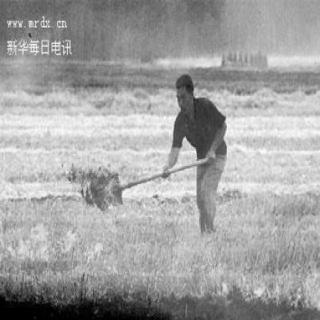Fire: (0, 218, 104, 272), (287, 253, 319, 306), (207, 263, 231, 299), (110, 258, 118, 270)
